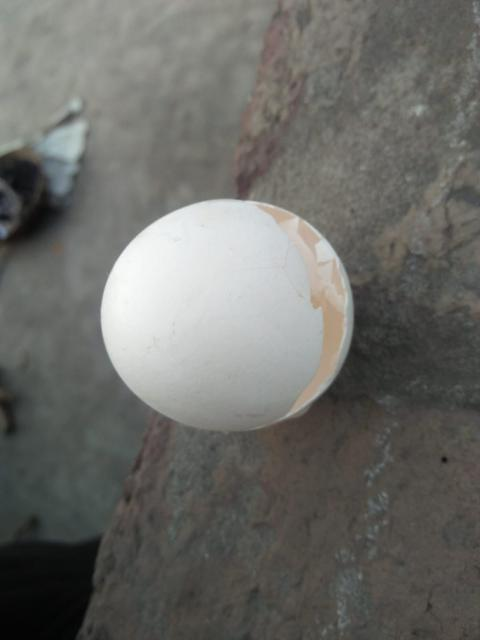Roto: (99, 197, 356, 432)
